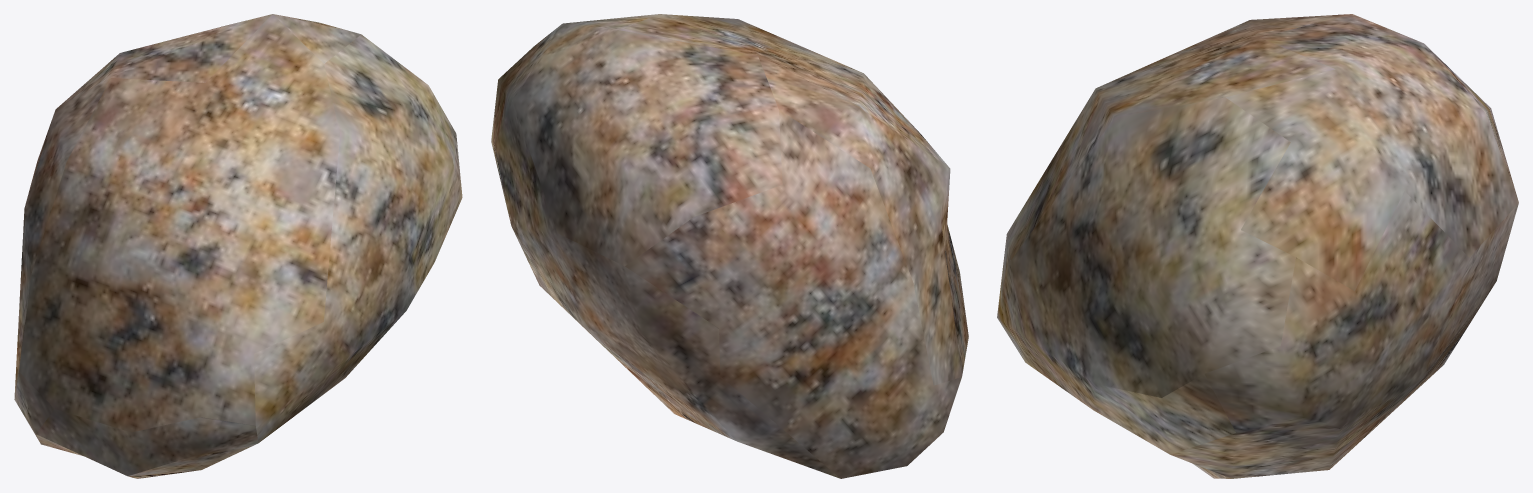
3 views of the same model, side by side, from view 1: azimuth 30°, elevation 25°; view 2: azimuth 150°, elevation 25°; view 3: azimuth 270°, elevation 25° (orthographic). The views are drawn at different scales.
Parts seen in each view (by area): view 1: rock046_lod4; view 2: rock046_lod4; view 3: rock046_lod4.
Boxes of the visible parts, <box> form: rock046_lod4: <box>14,14,462,478</box>; rock046_lod4: <box>491,14,968,478</box>; rock046_lod4: <box>997,14,1518,478</box>.
Bounding box in the file's own units: 1 × 0.8876 × 0.8795.
1 material, 1 textured.
